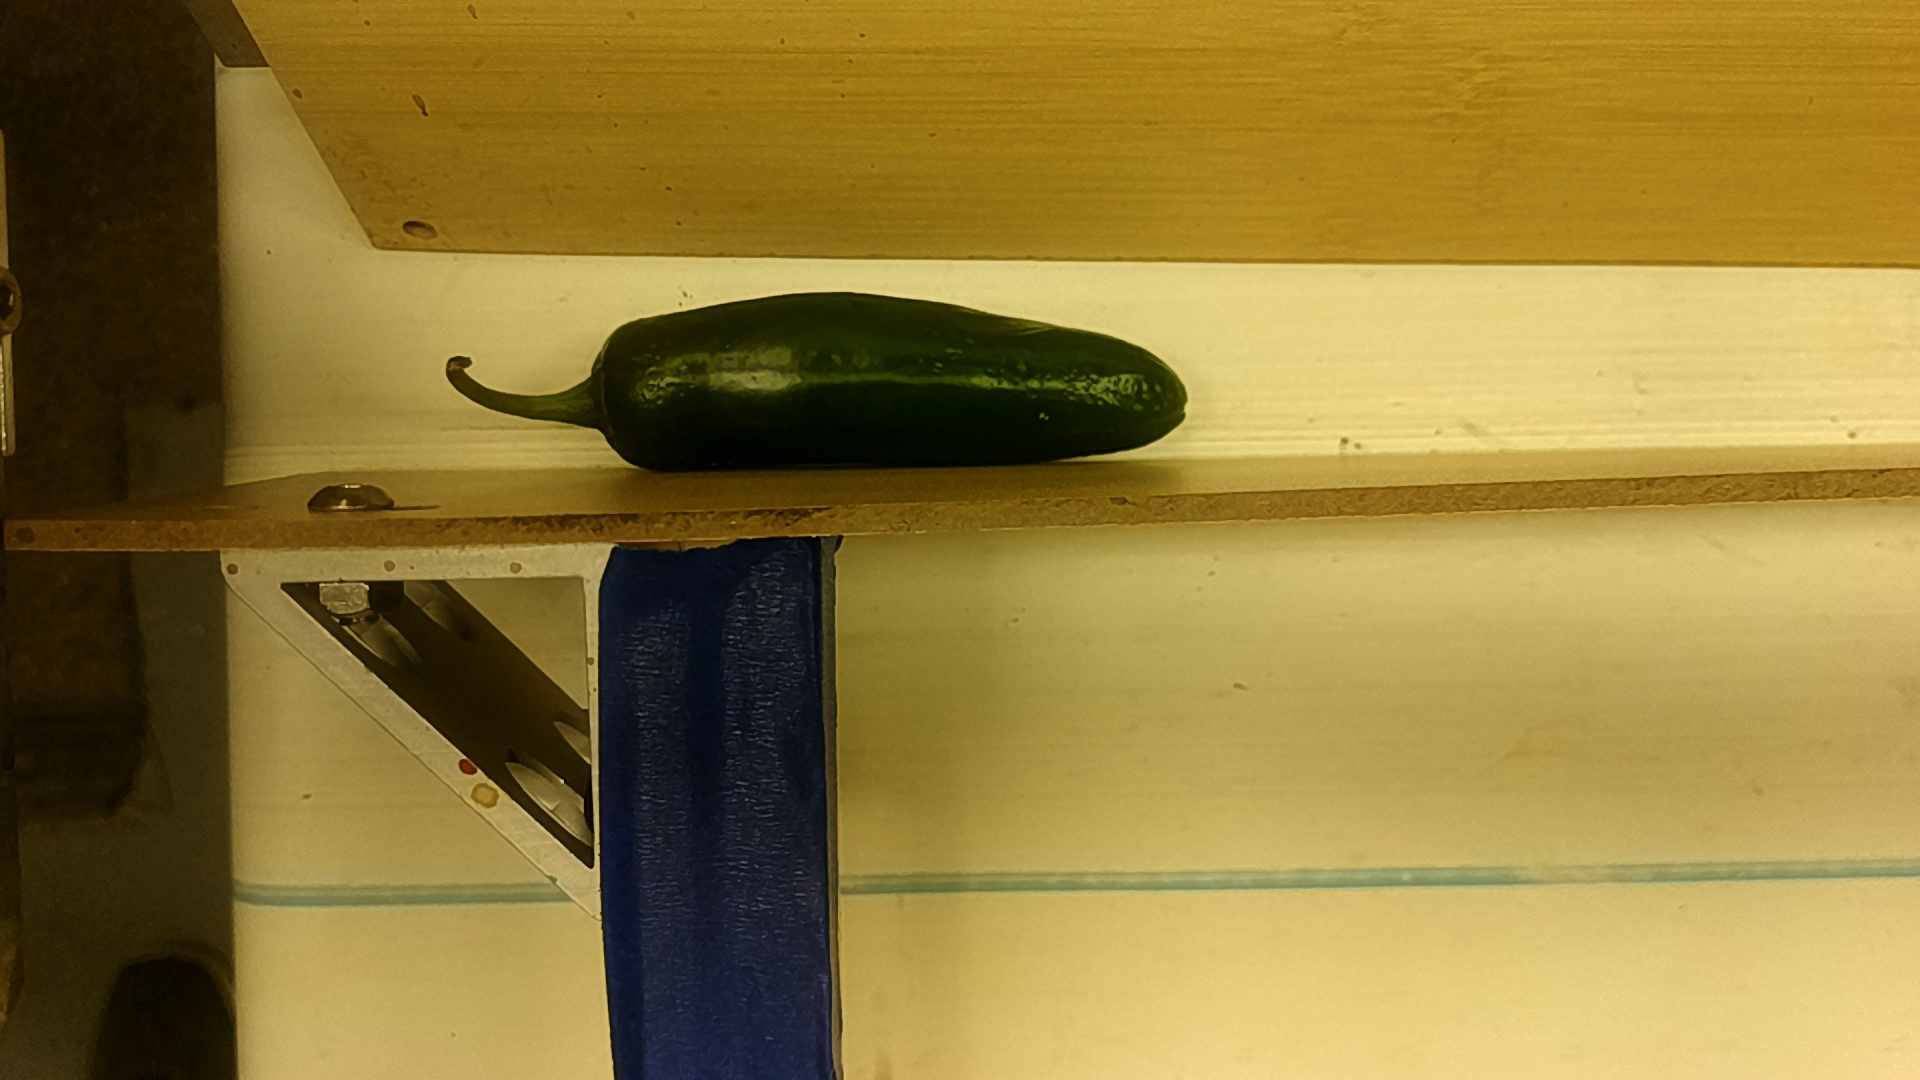Cut Point: (578, 303, 653, 480)
